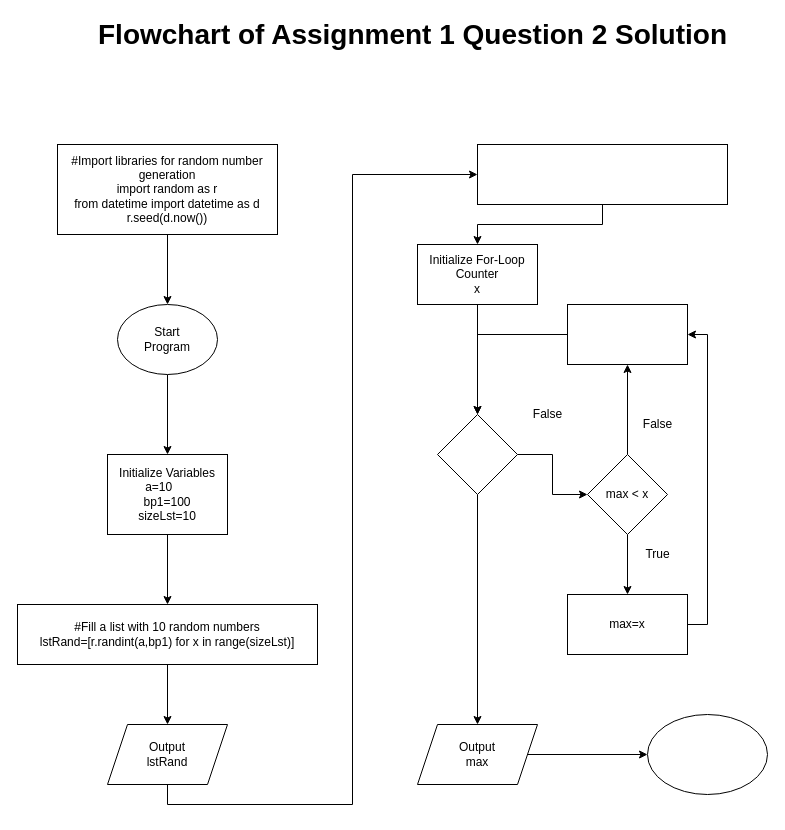
The diagram is 785 pixels wide and 830 high, and some of its shapes have lost their labels. Here are the shapes that lost their labels. From the top down, the centre of each, then its label:
At point 602,174: "#Find the maximum element in the list max=lstRand[0]".
At point 627,334: "Increment to Next x in lstRand".
At point 477,454: "lstRand exhausted".
At point 707,754: "End Program".
